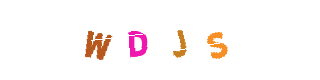D: (97, 0, 177, 80)
J: (120, 0, 200, 80)
S: (160, 0, 240, 80)
W: (79, 0, 159, 80)
